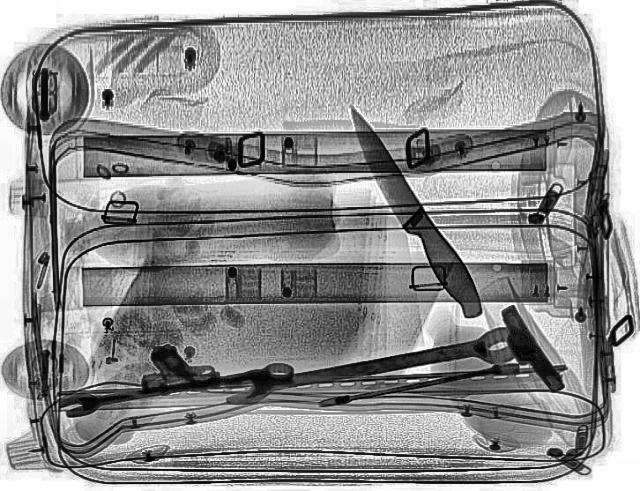Gun: (478, 304, 576, 396), (128, 337, 218, 393)
Knife: (332, 99, 492, 322)
Wrench: (217, 324, 527, 410), (56, 357, 294, 419)
